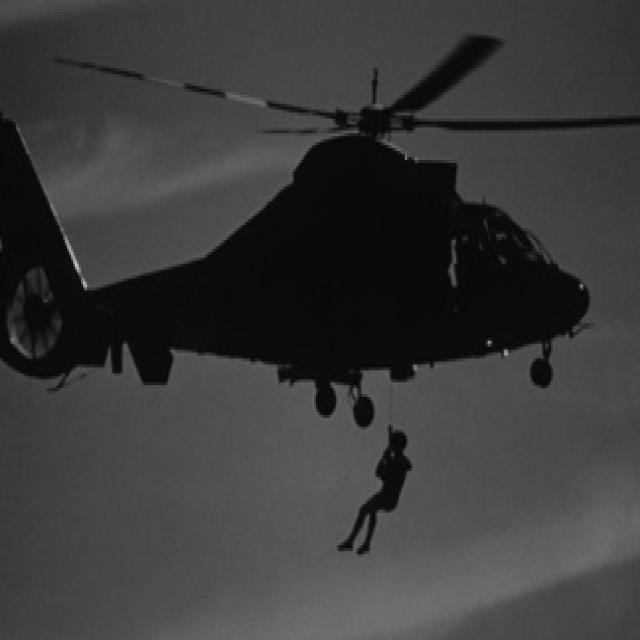helicopter: (1, 34, 600, 431)
